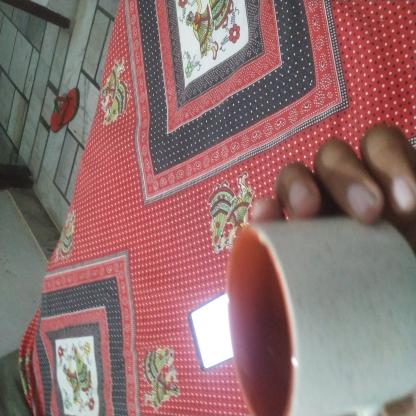cup: (1, 301, 154, 416)
